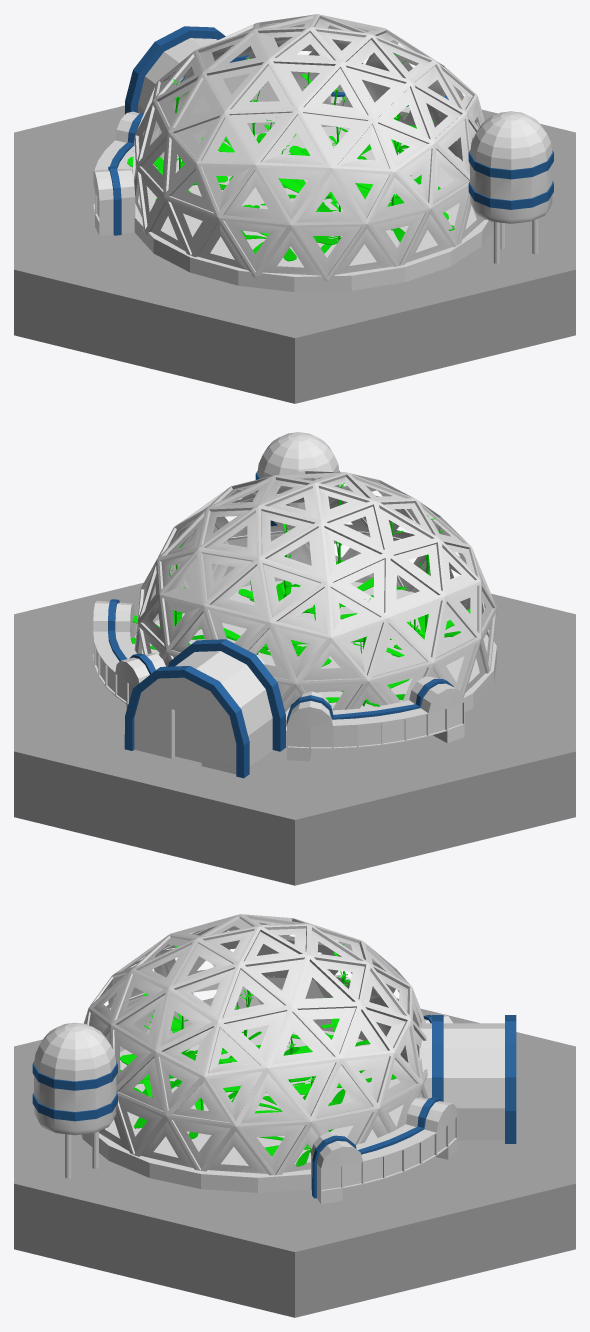
File: Greenhouse.fbx
3 views of the same model, one above another, from view 1: azimuth 30°, elevation 25°; view 2: azimuth 150°, elevation 25°; view 3: azimuth 270°, elevation 25° (orthographic).
Visible parts, largest first — view 1: pasted__polySurface121, pCylinder2; view 2: pasted__polySurface121, pCylinder2; view 3: pasted__polySurface121, pCylinder2.
Boxes of the visible parts, box(x1,y1,x2,y2) form: pasted__polySurface121: box(93, 14, 553, 291); pCylinder2: box(14, 105, 575, 403); pasted__polySurface121: box(93, 432, 496, 778); pCylinder2: box(14, 553, 575, 885); pasted__polySurface121: box(32, 914, 516, 1203); pCylinder2: box(14, 988, 575, 1317).
Bounding box in the file's own units: 14.65 × 6.31 × 12.69.
